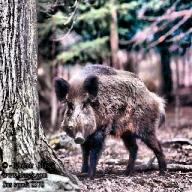boar: (52, 63, 168, 180)
